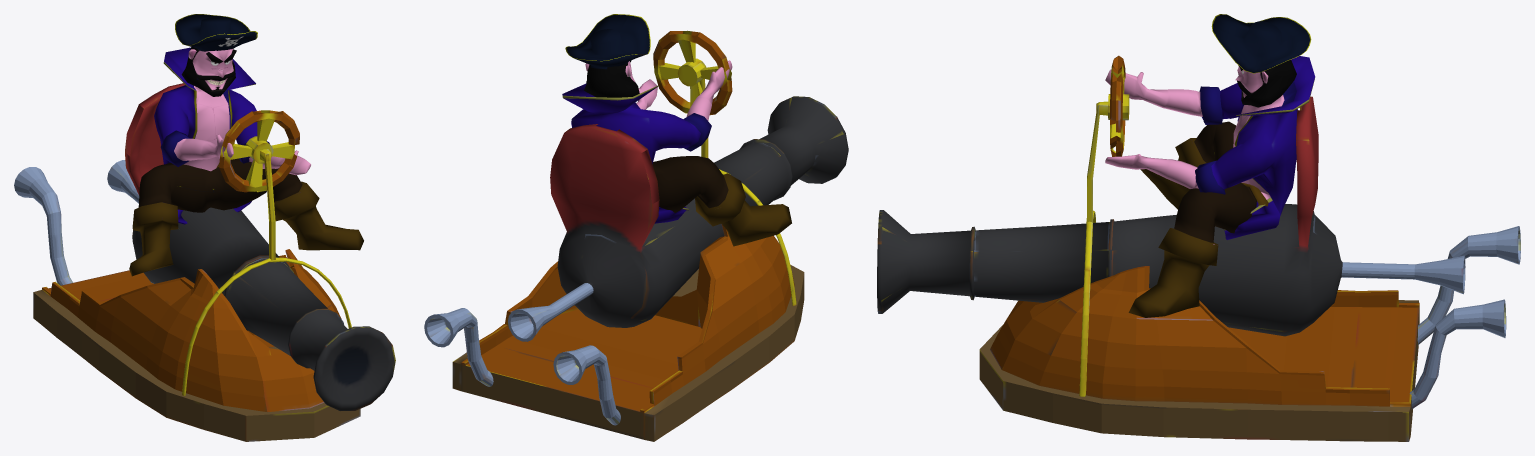
File: pirataGiroDER_000330.obj
The picture shows the model from 3 angles, left to right: view 1: azimuth 30°, elevation 25°; view 2: azimuth 150°, elevation 25°; view 3: azimuth 270°, elevation 25°; orthographic projection. The views are drawn at different scales.
Parts seen in each view (by area): view 1: carro_pirata, Pirata_PirataH; view 2: carro_pirata, Pirata_PirataH; view 3: carro_pirata, Pirata_PirataH.
Part boxes in pixels (box(x1,y1,x2,y2)): carro_pirata: box(14, 83, 395, 441); Pirata_PirataH: box(129, 14, 363, 276); carro_pirata: box(424, 30, 848, 441); Pirata_PirataH: box(562, 14, 791, 246); carro_pirata: box(877, 55, 1520, 441); Pirata_PirataH: box(1105, 14, 1315, 317).
Size of the model in its own units: 5.66 by 7.68 by 12.1.
